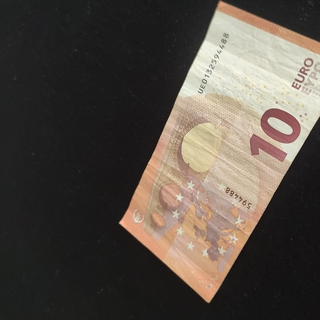10EUROBack: (118, 0, 320, 303)
